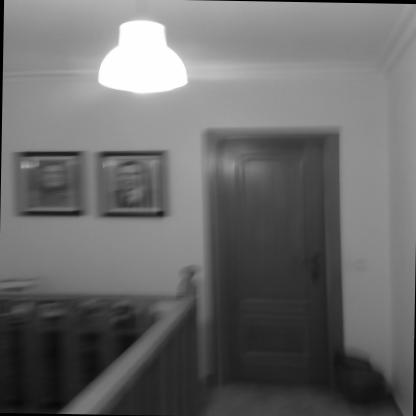closed: (189, 116, 349, 396)
